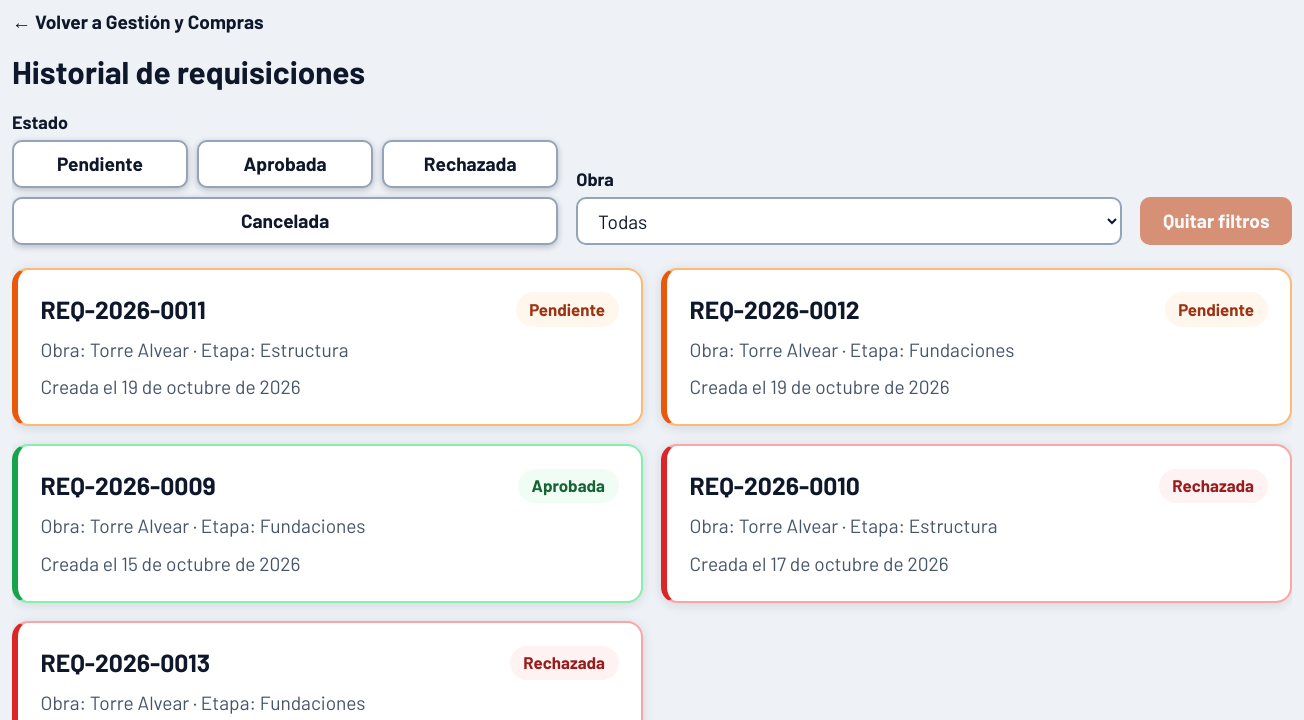
it: HistorialRequisicionesPage - filtros › "Quitar filtros" está apagado sin filtros y los limpia al tocarlo
The image size is (1304, 720).
Check: the link "REQ-2026-0011" is shown, box [40, 294, 206, 324]
Check: the button "Quitar filtros" is disabled, box [1140, 197, 1292, 245]
Click the button "Rechazada": (470, 164) [382, 140, 558, 188]
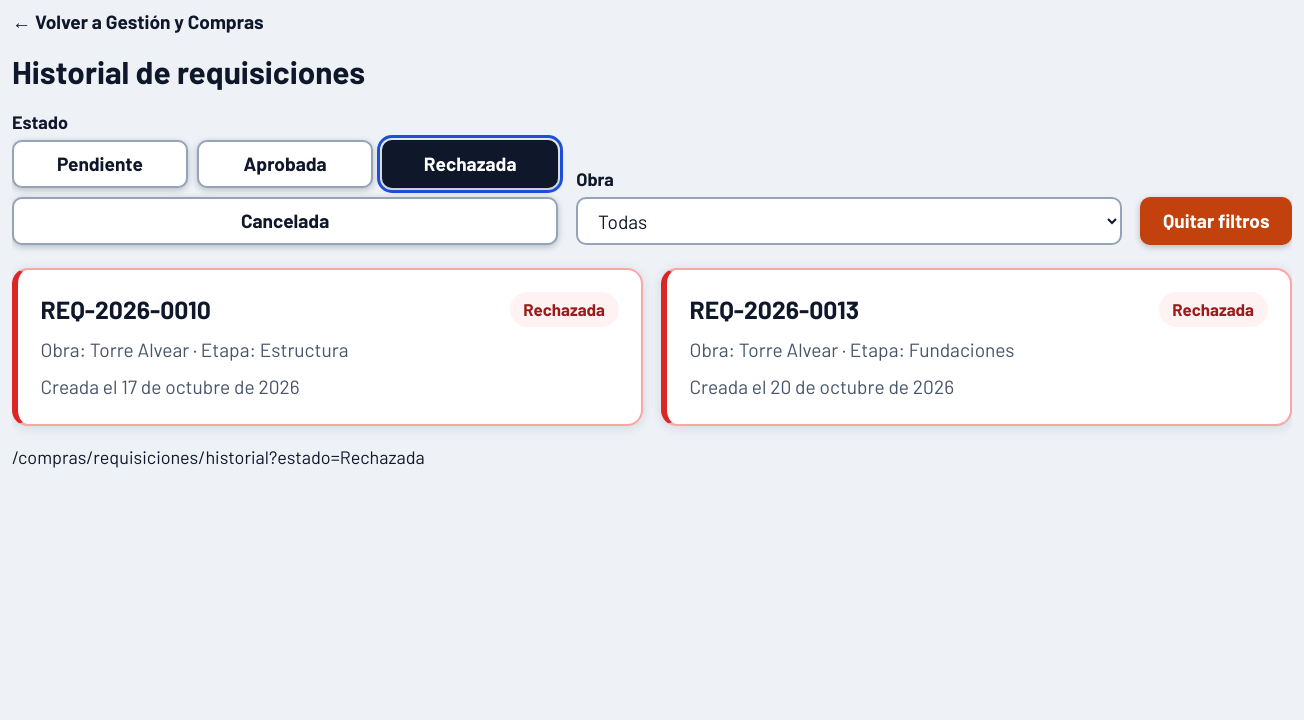
Check: the link "REQ-2026-0010" is shown, box [40, 294, 211, 324]
Check: the button "Quitar filtros" is enabled
Click the button "Quitar filtros": (1216, 221) [1140, 197, 1292, 245]
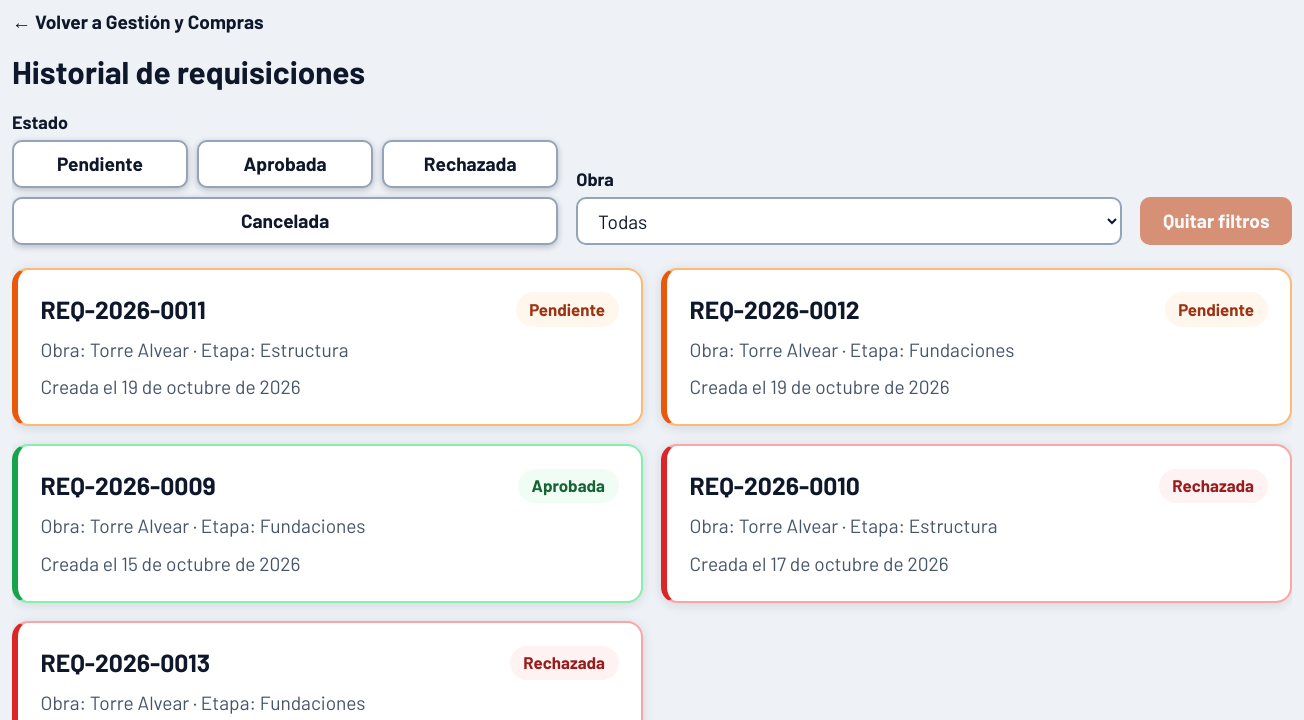
Check: the link "REQ-2026-0010" is shown, box [690, 470, 860, 500]
Check: the link "REQ-2026-0011" is shown, box [40, 294, 206, 324]
Check: the button "Quitar filtros" is disabled, box [1140, 197, 1292, 245]
